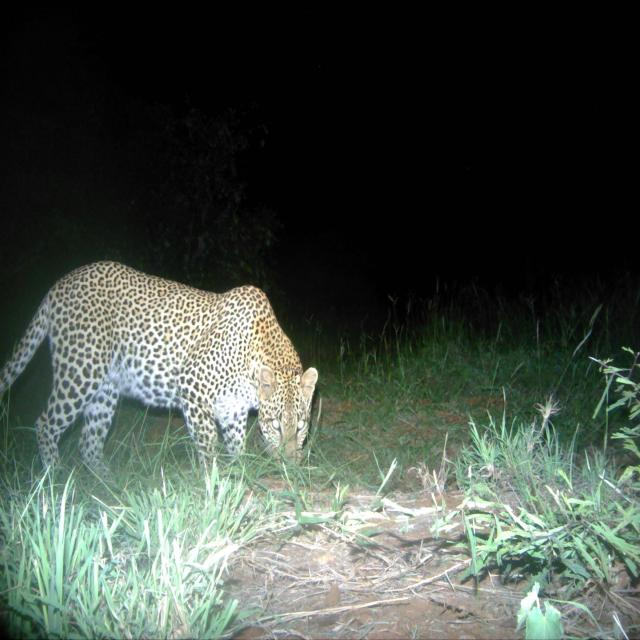Leopard: (0, 266, 320, 484)
